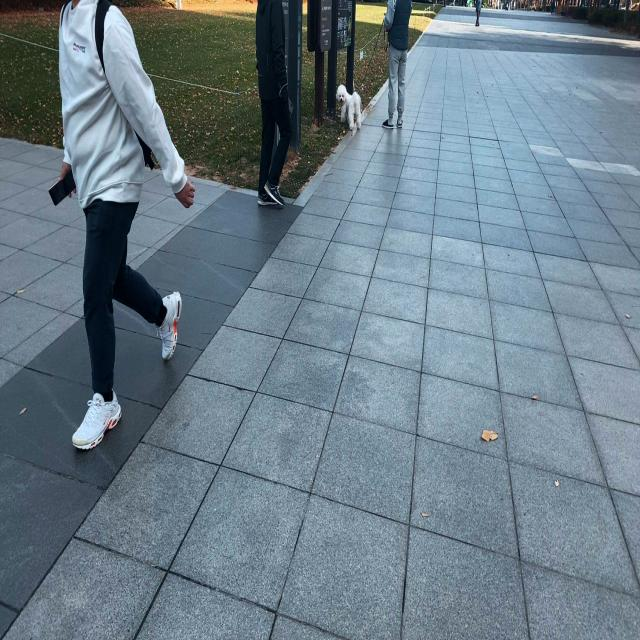Leashed_Dog: (336, 15, 402, 134)
